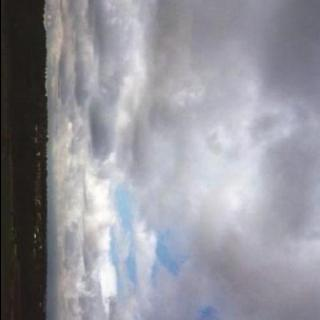Stratocumulus: (52, 0, 320, 320)
